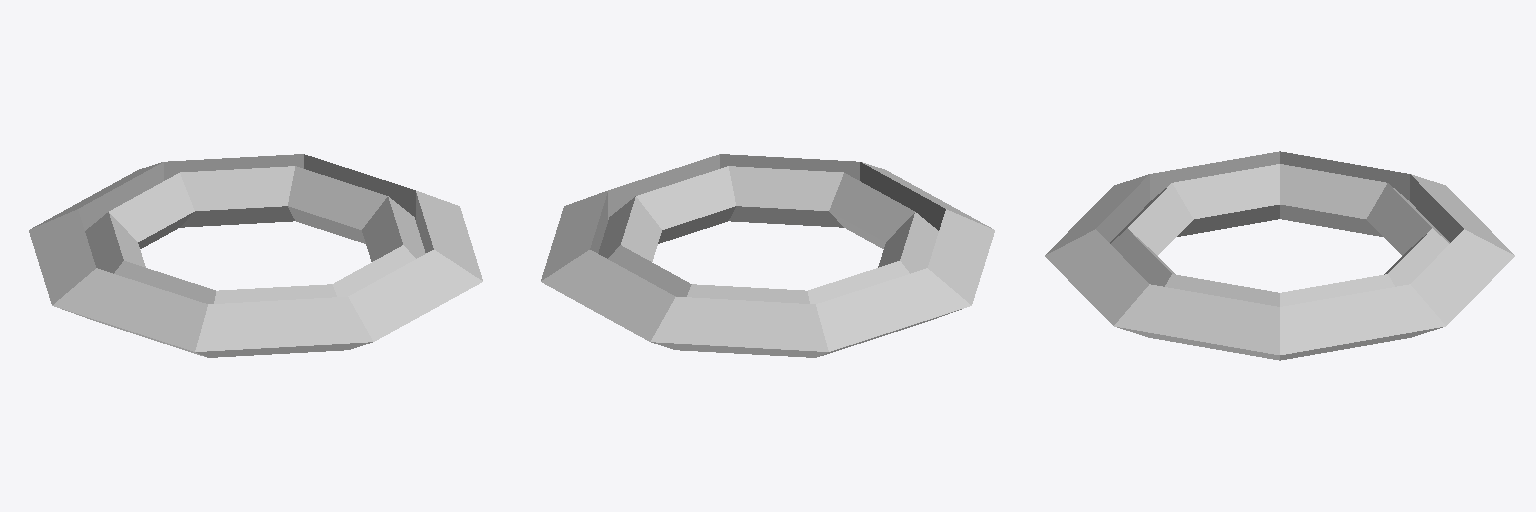
File: ProjectorV2LemRing2.obj
The picture shows the model from 3 angles: view 1: azimuth 30°, elevation 25°; view 2: azimuth 150°, elevation 25°; view 3: azimuth 270°, elevation 25°; orthographic projection.
Visible parts, largest first — view 1: Ring_ring_(data); view 2: Ring_ring_(data); view 3: Ring_ring_(data).
Boxes of the visible parts, <box> form: Ring_ring_(data): <box>29,154,482,357</box>; Ring_ring_(data): <box>541,154,994,357</box>; Ring_ring_(data): <box>1045,151,1514,360</box>.
Bounding box in the file's own units: 0.772 × 0.1 × 0.772.